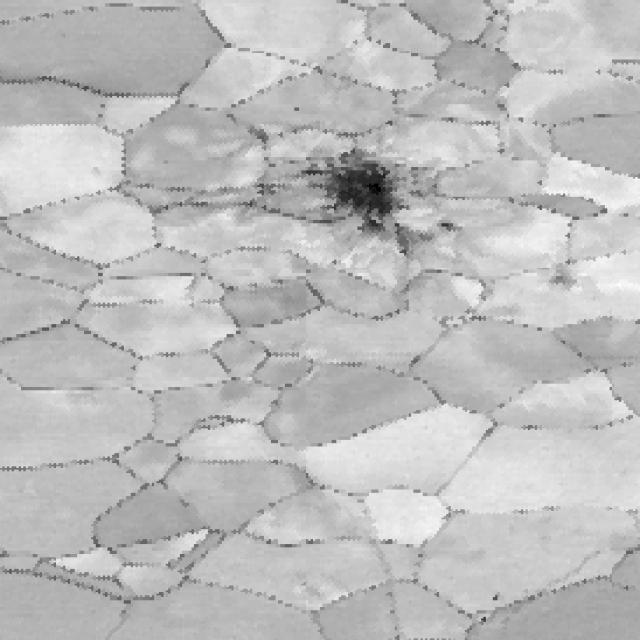good_void: (291, 135, 472, 259), (541, 265, 582, 301), (487, 590, 506, 606), (530, 177, 548, 189), (478, 615, 493, 626)
